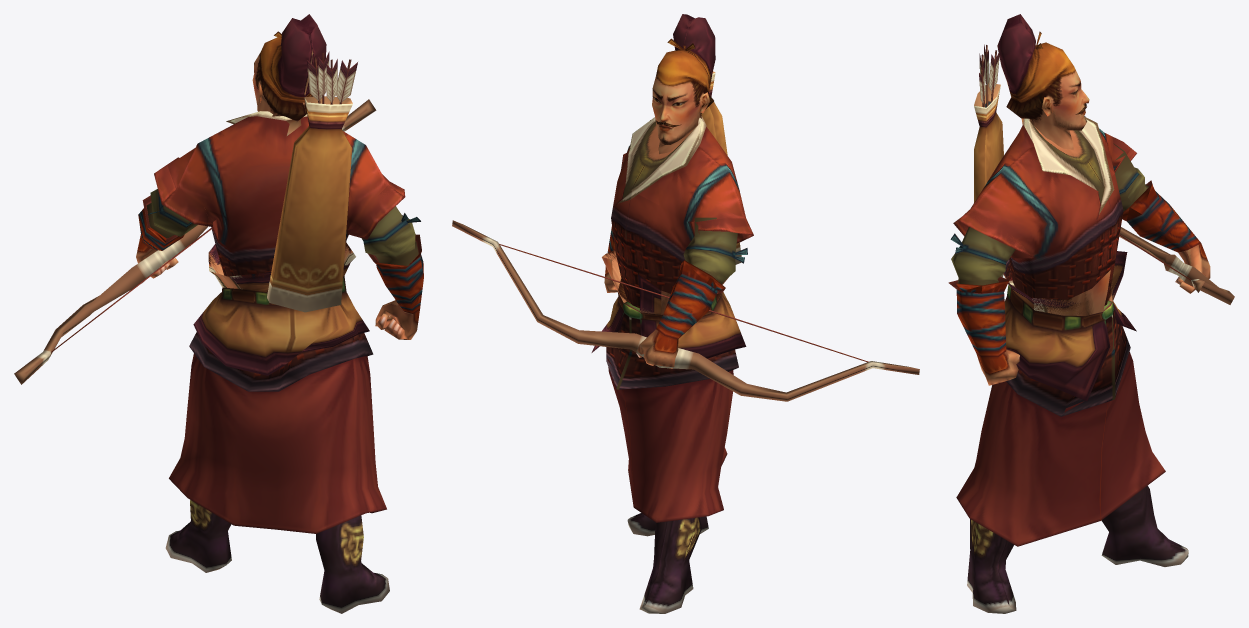
The model's file is gongjianbing_red.FBX.
3 views of the same model, side by side, from view 1: azimuth 30°, elevation 25°; view 2: azimuth 150°, elevation 25°; view 3: azimuth 270°, elevation 25° (orthographic). The views are drawn at different scales.
Parts seen in each view (by area): view 1: lod1_1; view 2: lod1_1; view 3: lod1_1.
Boxes of the visible parts, x1,y1,x2,y2 form: lod1_1: (14, 14, 423, 613); lod1_1: (452, 14, 919, 613); lod1_1: (948, 14, 1234, 613).
Bounding box in the file's own units: 38.27 × 49.09 × 22.58.
